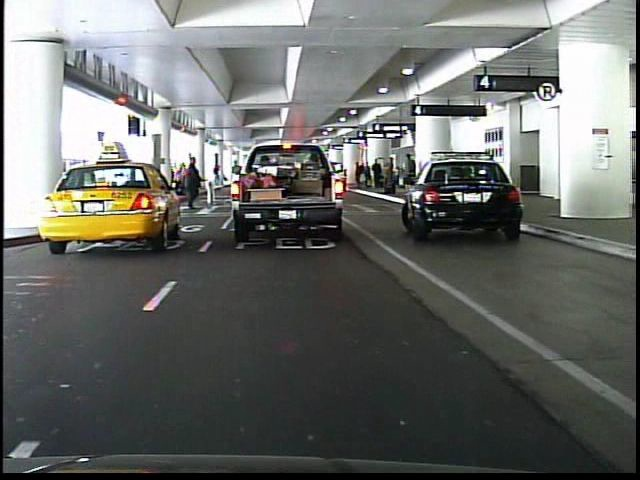person: (179, 154, 202, 213), (254, 146, 277, 202)
